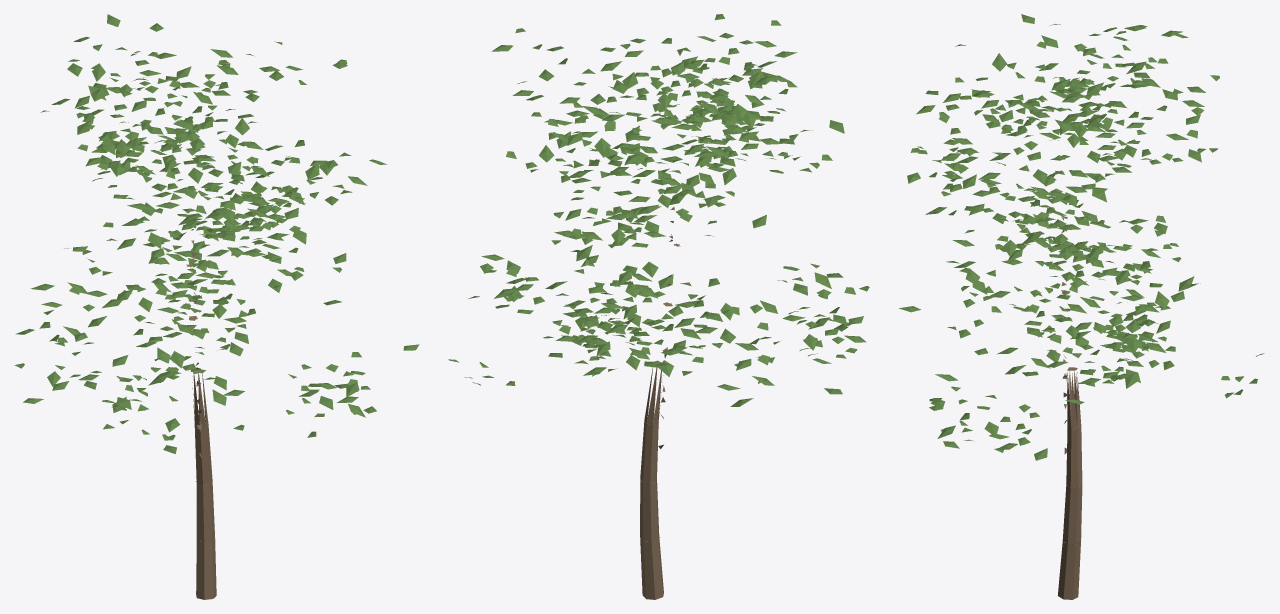
File: birch_lod.glb
3 views of the same model, side by side, from view 1: azimuth 30°, elevation 25°; view 2: azimuth 150°, elevation 25°; view 3: azimuth 270°, elevation 25° (orthographic). The views are drawn at different scales.
Visible parts, largest first — view 1: birch; view 2: birch; view 3: birch.
Boxes of the visible parts, x1=… form: birch: x1=14, y1=14, x2=419, y2=599; birch: x1=448, y1=14, x2=869, y2=599; birch: x1=899, y1=14, x2=1264, y2=599.
Bounding box in the file's own units: 8.59 × 13.08 × 8.
